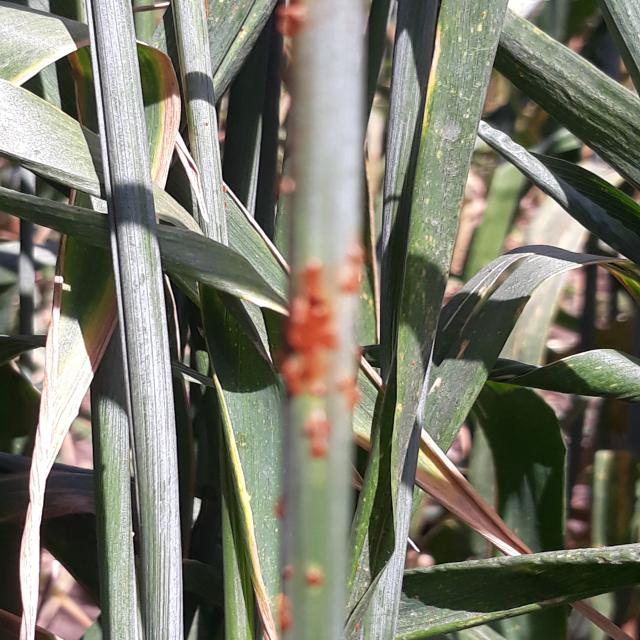black_stem_rust: (219, 0, 416, 640)
